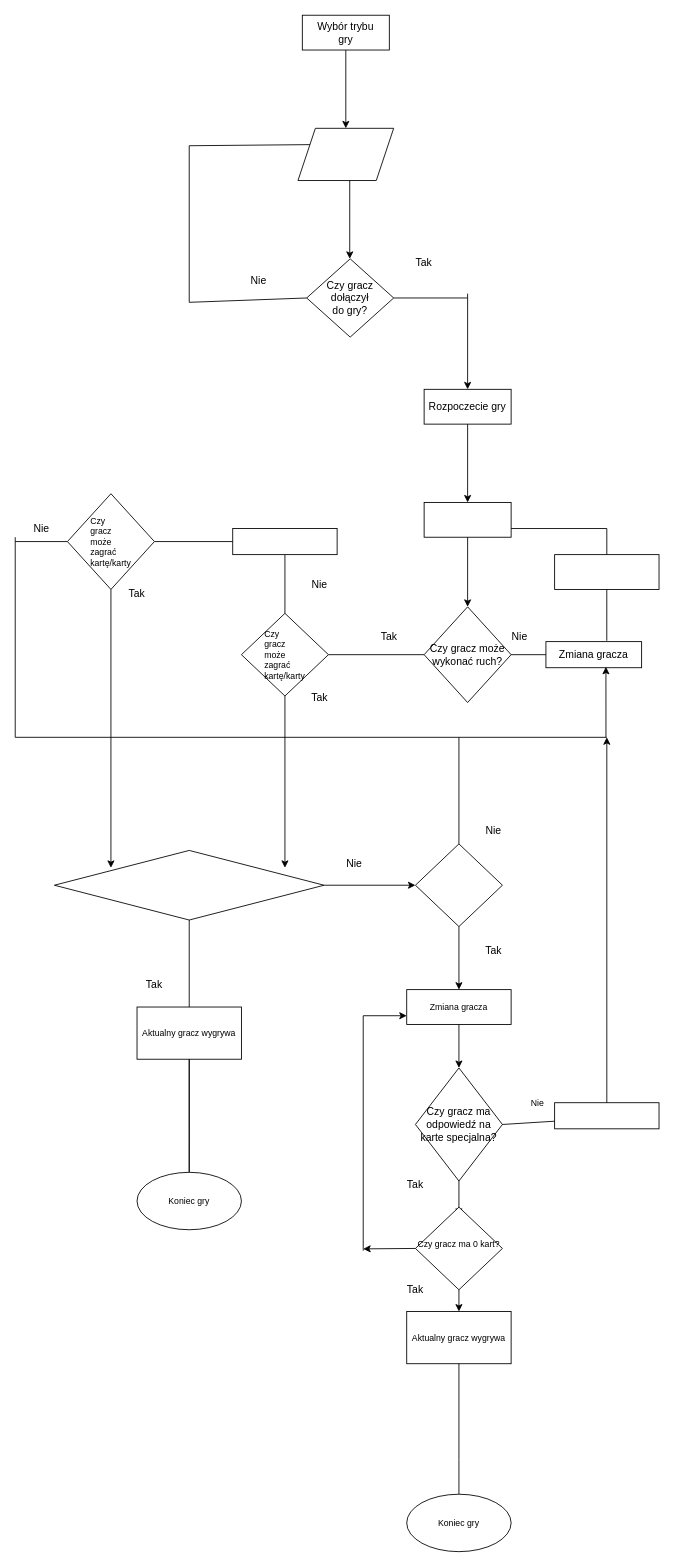
Image size: 674x1567. Some labels were removed from this diagram. The centre of each missing label's shape, as x and y in pixels:
Czy karty miały działania specjalne: (x=458, y=885)
Czy obecny gracz ma 0 kart po ich zagraniu?: (x=189, y=885)
Gracz dobiera karte: (x=284, y=541)
Karty wykonuja swoje działanie: (x=606, y=1115)
Oczekiwanie na drugiego gracza: (x=345, y=154)
Tura gracza: (x=467, y=519)
Zmiana 1 karty lub całej ręki obecnego gracza: (x=606, y=571)
